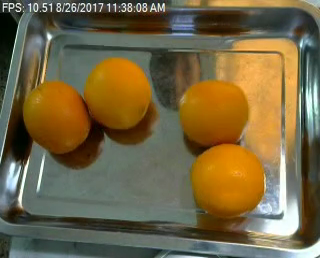Orange: (190, 143, 266, 217), (83, 55, 152, 130), (22, 79, 90, 153), (178, 79, 249, 145)
